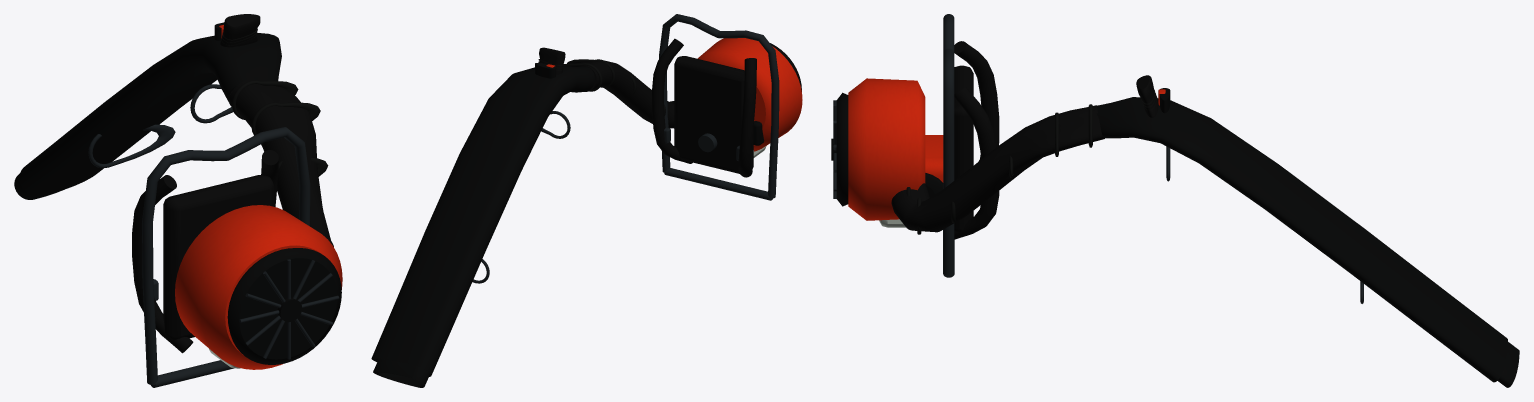
File: BackpackBlower.gltf
The picture shows the model from 3 angles, left to right: view 1: azimuth 30°, elevation 25°; view 2: azimuth 150°, elevation 25°; view 3: azimuth 270°, elevation 25°; orthographic projection. The views are drawn at different scales.
Visible parts, largest first — view 1: BackpackBlower__Body; view 2: BackpackBlower__Body; view 3: BackpackBlower__Body.
Part boxes in pixels (box(x1,y1,x2,y2)): BackpackBlower__Body: box(14, 14, 342, 387); BackpackBlower__Body: box(371, 14, 802, 387); BackpackBlower__Body: box(831, 14, 1519, 387).
Bounding box in the file's own units: 0.7018 × 0.8168 × 1.73.
1 material, 1 textured.
